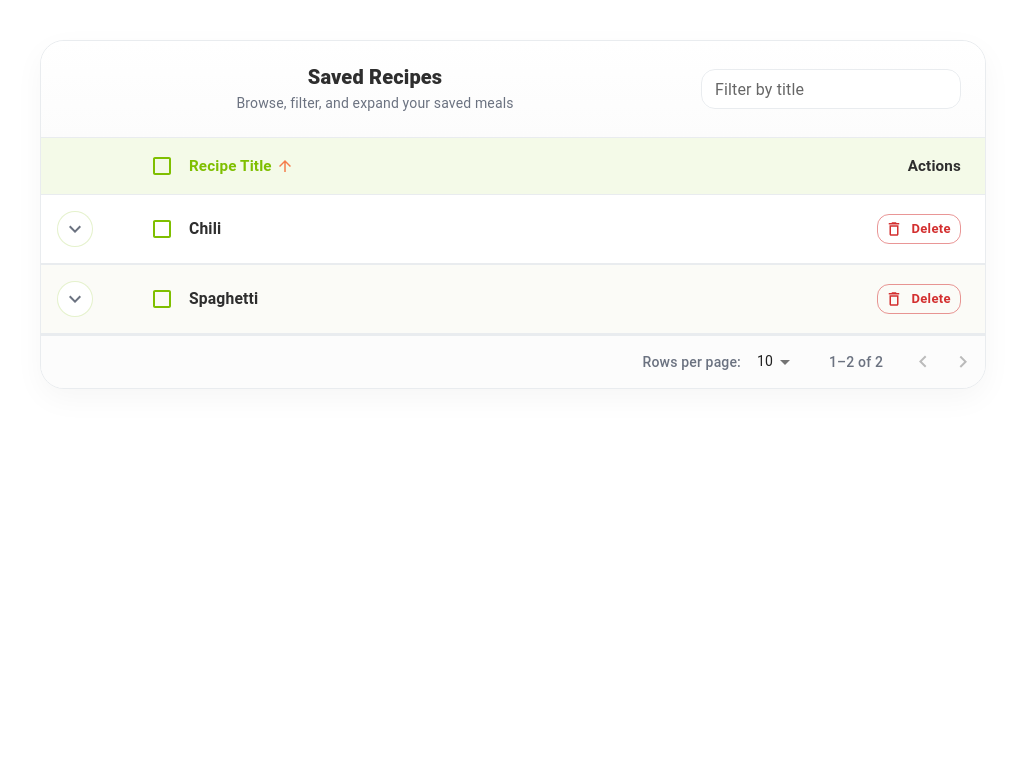
Test: SavedRecipesTable › expands recipe details when clicking expand button
The width and height of the screenshot is (1024, 768).
Click the button named "expand recipe row" next to "Chili": (75, 229) left=57, top=211, right=93, bottom=247
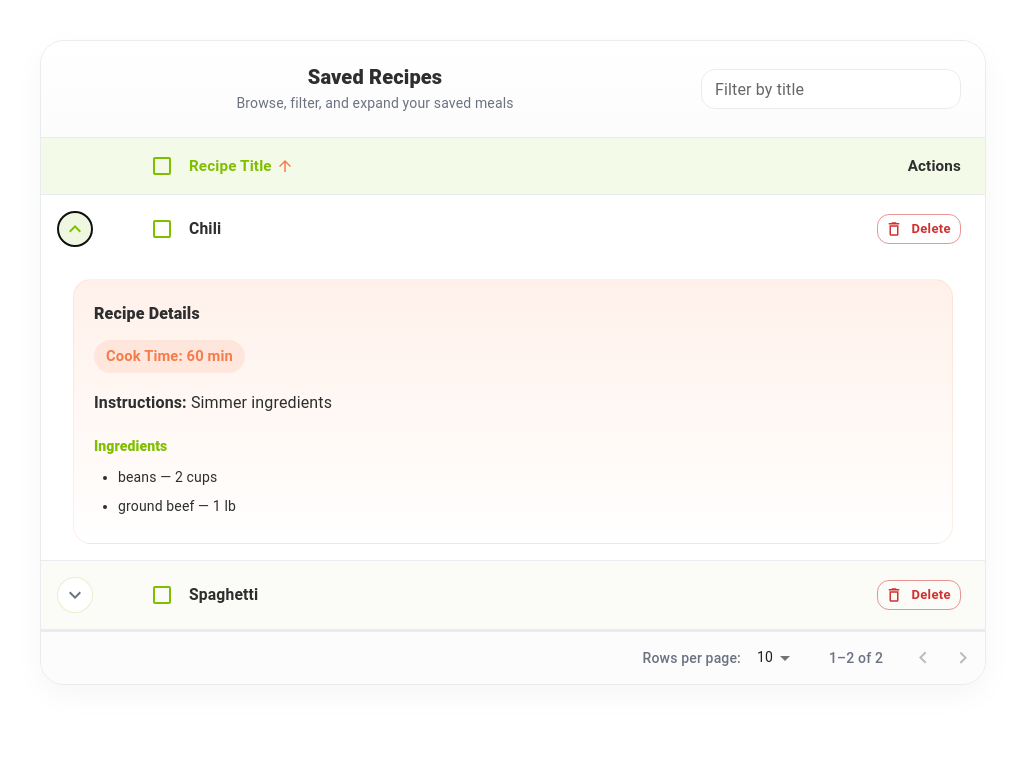
Expected: the heading "Recipe Details" is shown, left=94, top=304, right=200, bottom=323
Expected: the text "Cook Time: 60 min" is shown, left=94, top=340, right=245, bottom=373
Expected: the text "Instructions:" is shown, left=94, top=393, right=187, bottom=412
